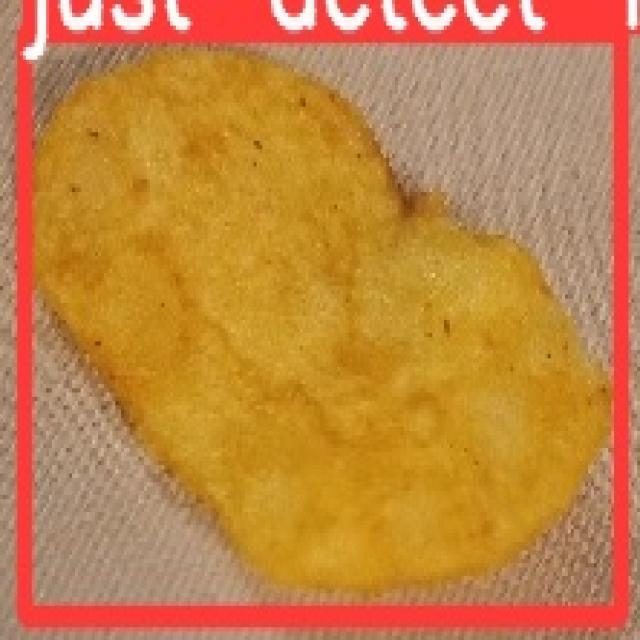Wet Waste: (44, 60, 608, 587)
